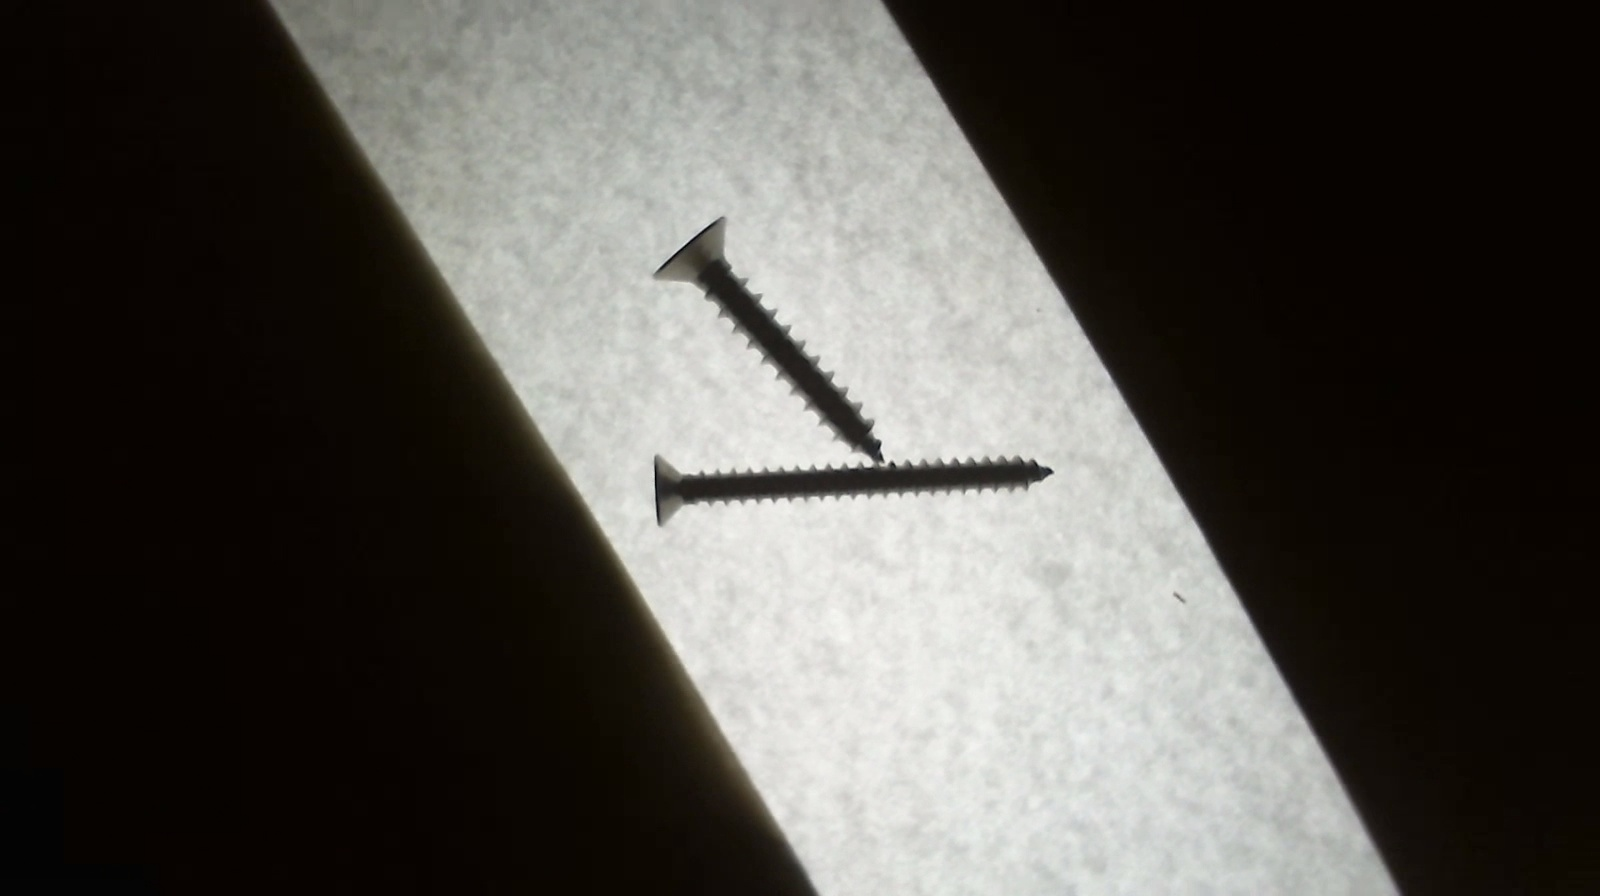S001: (649, 207, 888, 471)
S002: (630, 457, 1060, 526)
